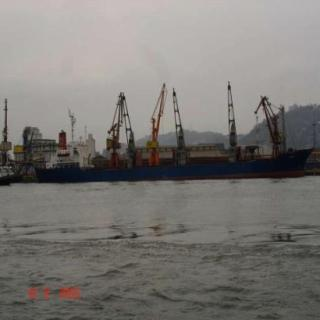Bulk Carrier: (50, 84, 315, 180)
